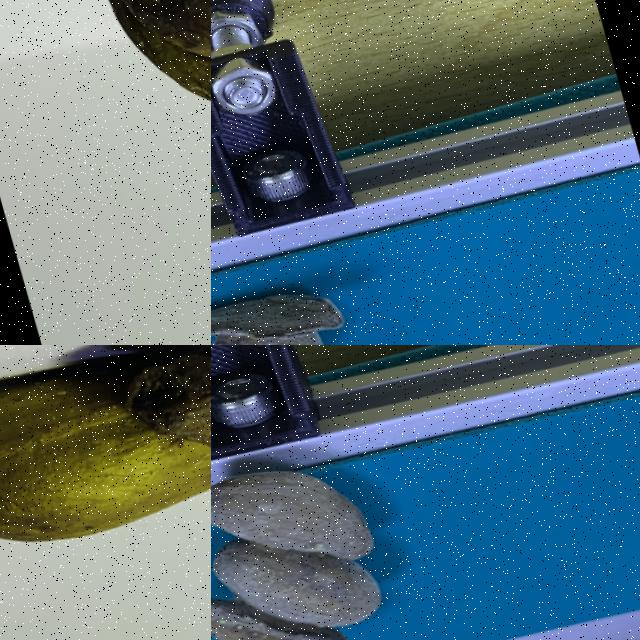Agglomerated_cocoabeans: (211, 373, 467, 639), (0, 345, 210, 634), (0, 0, 210, 256), (211, 194, 427, 344)
